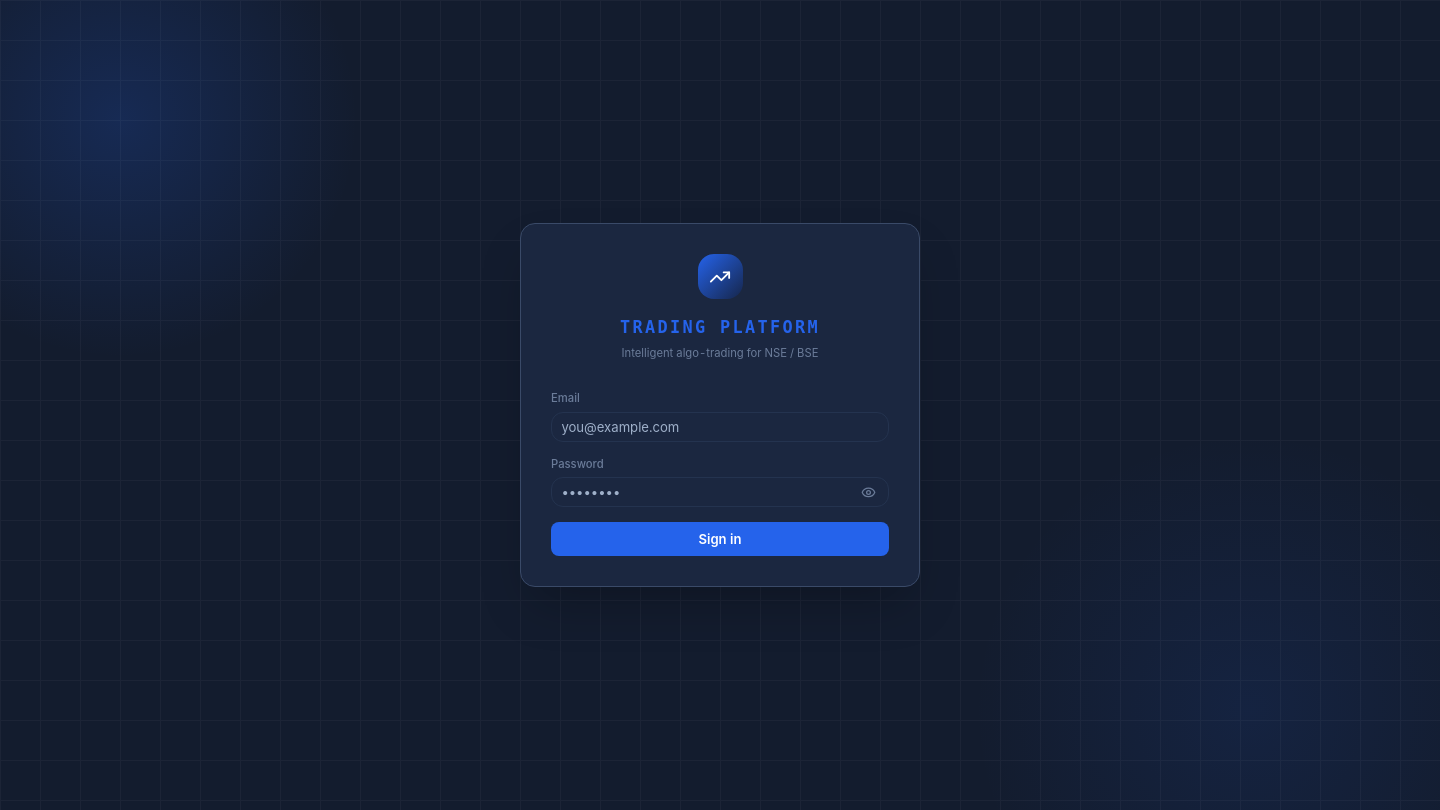
Scenario: LoginPage › shows deactivated message on 403
This screenshot has width=1440, height=810.
Type "a@example.com" into the field labelled "Email" at (720, 427), box top-left (551, 412), bottom-right (889, 442)
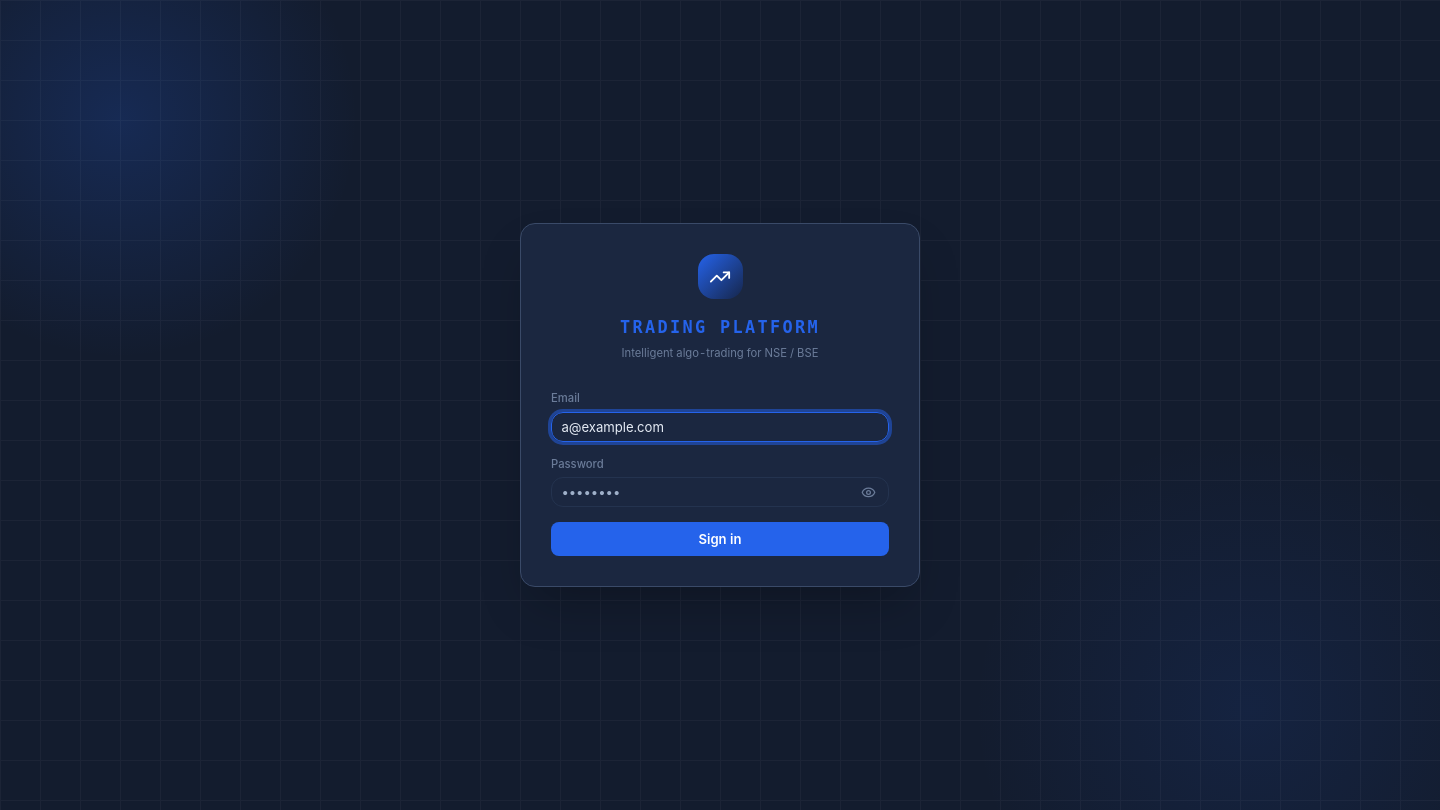
Type "Secret123" into the password field labelled "Password" at (720, 492), box top-left (551, 477), bottom-right (889, 507)
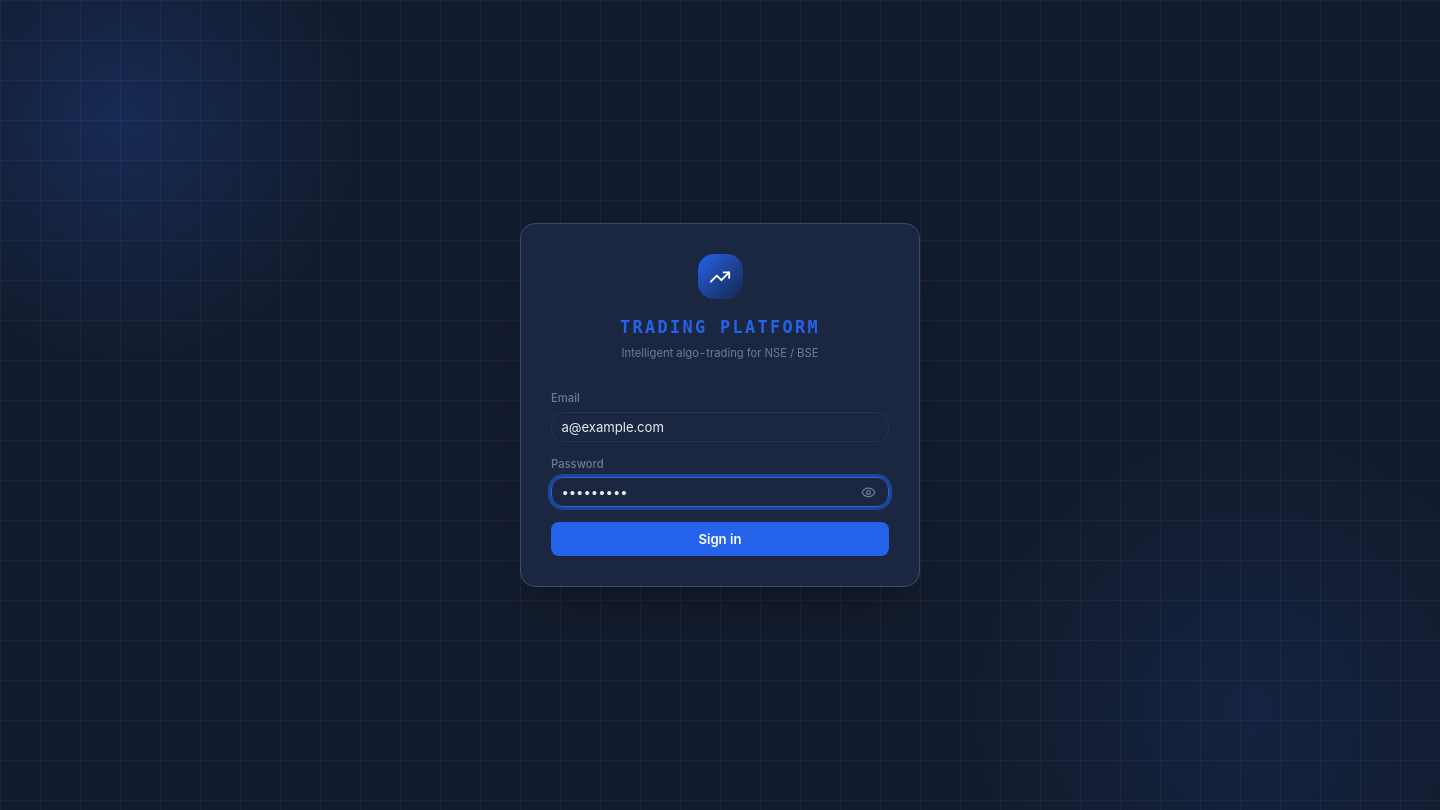
Click the button "Sign in" at (720, 539), box top-left (551, 522), bottom-right (889, 556)
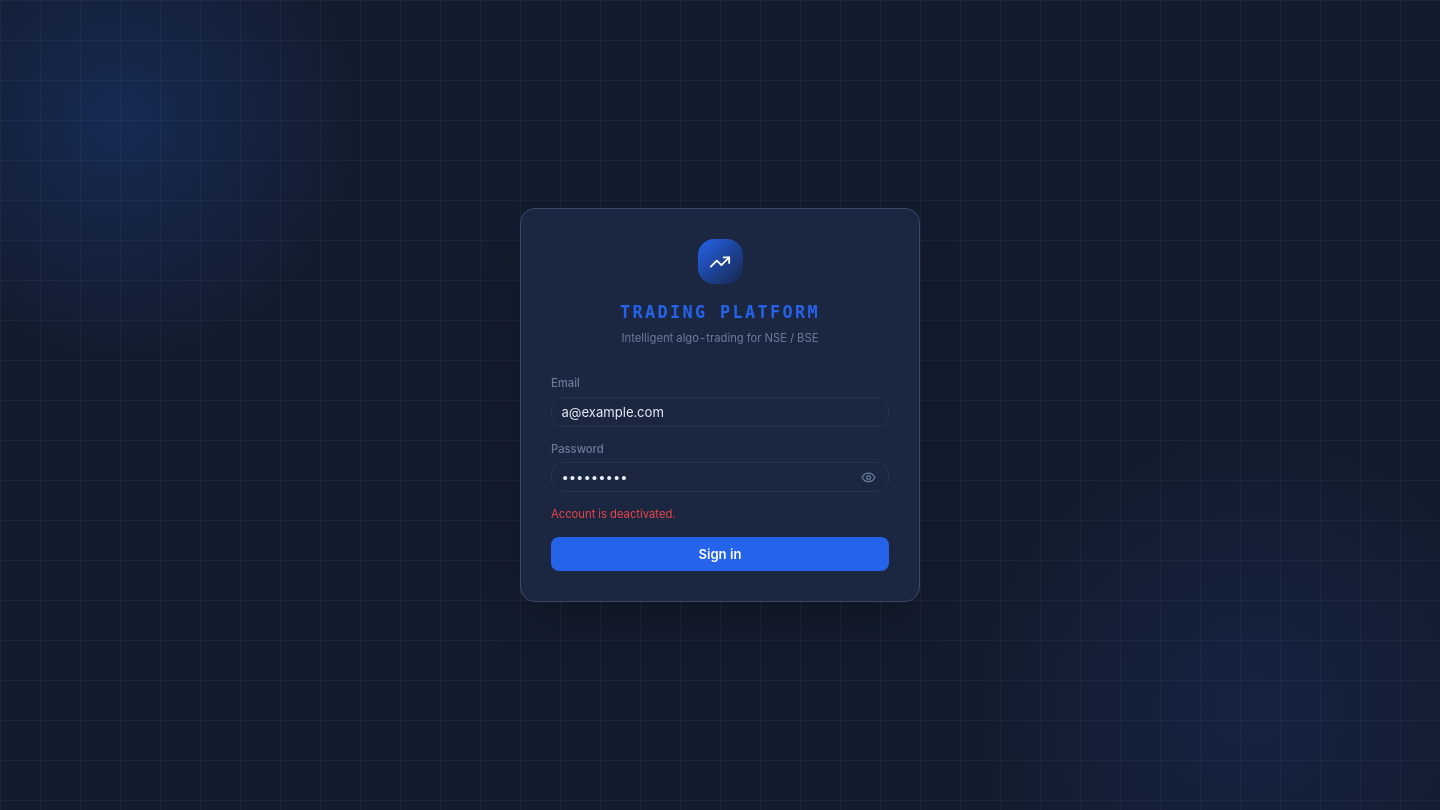
Check: the text "Account is deactivated." is shown, box top-left (551, 507), bottom-right (675, 521)
